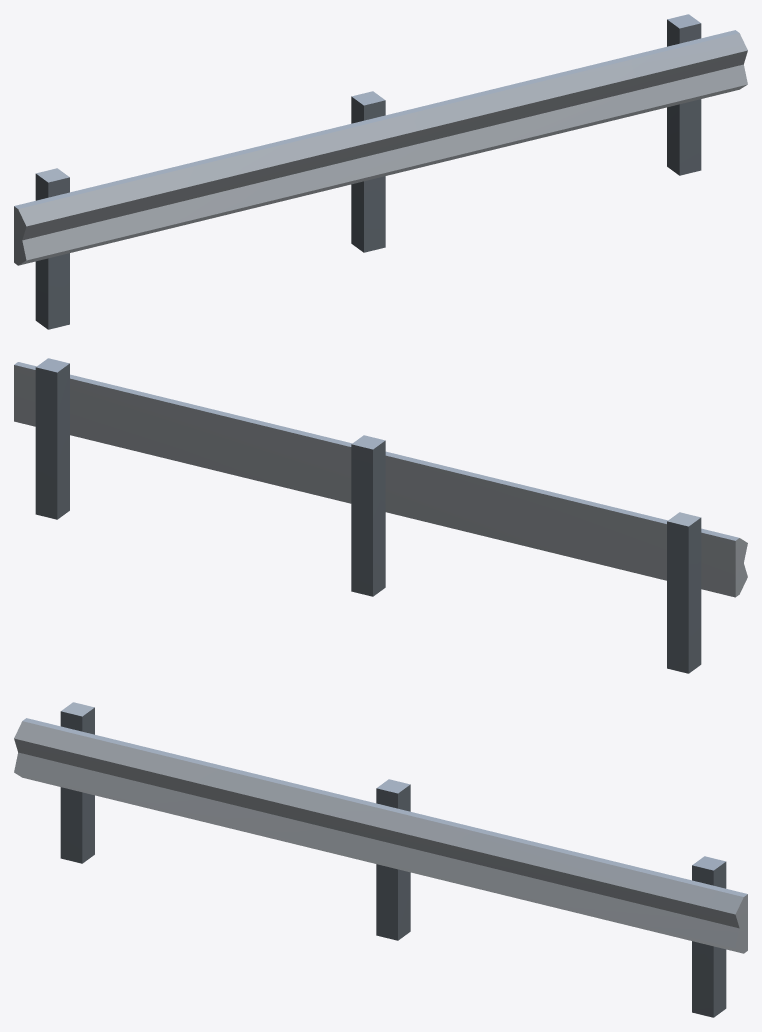
Rendered from guardrail.glb.
3 views of the same model, one above another, from view 1: azimuth 30°, elevation 25°; view 2: azimuth 150°, elevation 25°; view 3: azimuth 330°, elevation 25° (orthographic).
Visible parts, largest first — view 1: Prop; view 2: Prop; view 3: Prop.
Boxes of the visible parts, x1,y1,x2,y2 form: Prop: [14, 14, 747, 329]; Prop: [14, 358, 747, 673]; Prop: [14, 702, 747, 1017].
Size of the model in its own units: 4 by 0.78 by 0.24.
